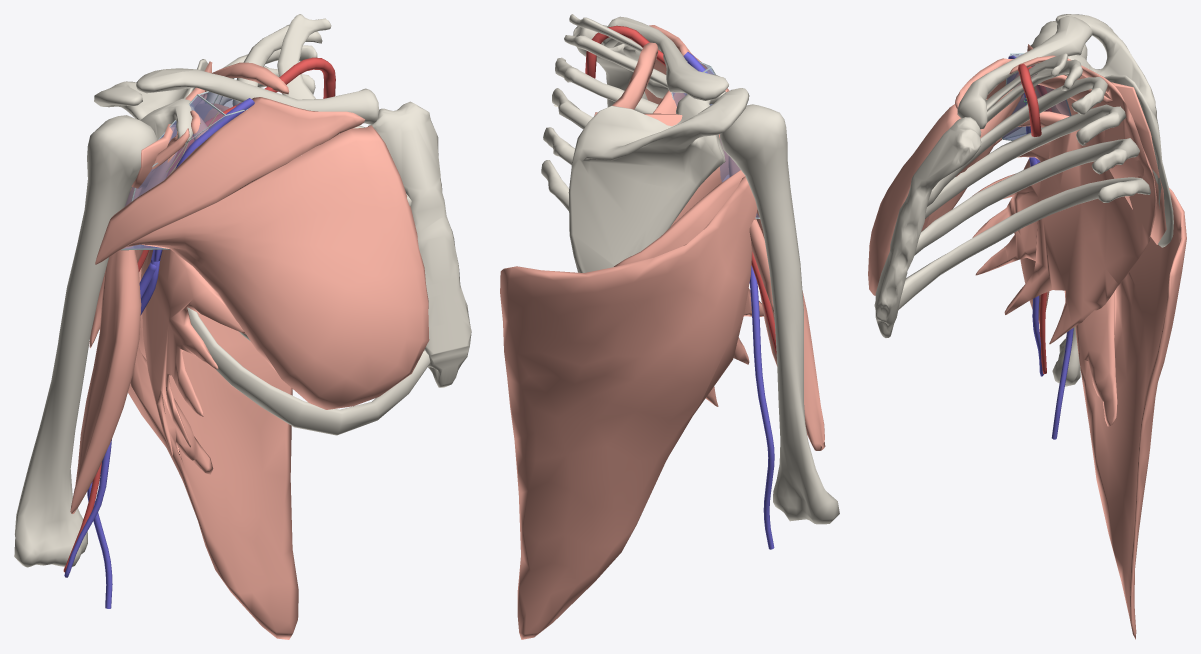
File: axilla.glb
3 views of the same model, side by side, from view 1: azimuth 30°, elevation 25°; view 2: azimuth 150°, elevation 25°; view 3: azimuth 270°, elevation 25° (orthographic). The views are drawn at different scales.
Visible parts, largest first — view 1: Pectoralis Major, Latissimus Dorsi, Humerus, Sternum, Serratus Anterior, Biceps Brachii Short Head, 6th Rib, Clavicle, Scapula, Axillary Vein, Axilla, Axillary Artery (+4 smaller); view 2: Latissimus Dorsi, Scapula, Humerus, Clavicle, Teres Major, Serratus Anterior, Axillary Vein, Biceps Brachii Short Head, Axillary Artery, 2nd Rib, 3rd Rib, Sternum (+8 smaller); view 3: Latissimus Dorsi, Serratus Anterior, Sternum, 6th Rib, 5th Rib, Pectoralis Major, Scapula, 4th Rib, Clavicle, 3rd Rib, Subscapularis, Axillary Artery (+6 smaller).
Part boxes in pixels (x1,y1,x2,y2): Pectoralis Major: (95,97,429,409); Latissimus Dorsi: (128,268,298,639); Humerus: (14,115,157,567); Sternum: (368,101,471,387); Serratus Anterior: (141,62,289,456); Biceps Brachii Short Head: (70,128,189,513); 6th Rib: (187,307,430,435); Clavicle: (136,68,378,124); Scapula: (94,59,207,142); Axillary Vein: (64,98,254,608); Axilla: (121,91,247,250); Axillary Artery: (63,57,335,572); Latissimus Dorsi: (500,176,757,639); Scapula: (568,88,749,272); Humerus: (720,104,839,524); Clavicle: (603,16,728,100); Teres Major: (614,170,745,266); Serratus Anterior: (612,42,763,406); Axillary Vein: (683,52,774,549); Biceps Brachii Short Head: (727,90,825,450); Axillary Artery: (585,25,776,354); 2nd Rib: (564,35,668,98); 3rd Rib: (555,57,658,113); Sternum: (573,25,647,106); Latissimus Dorsi: (1075,188,1186,639); Serratus Anterior: (972,55,1156,344); Sternum: (875,117,981,337); 6th Rib: (874,177,1150,309); 5th Rib: (914,138,1139,255); Pectoralis Major: (868,58,1035,295); Scapula: (1055,14,1173,247); 4th Rib: (925,104,1126,218); Clavicle: (957,16,1092,129); 3rd Rib: (927,76,1107,206); Subscapularis: (1027,44,1166,244); Axillary Artery: (1018,63,1051,374).
Bounding box in the file's own units: 7.94 × 14.29 × 7.21.
